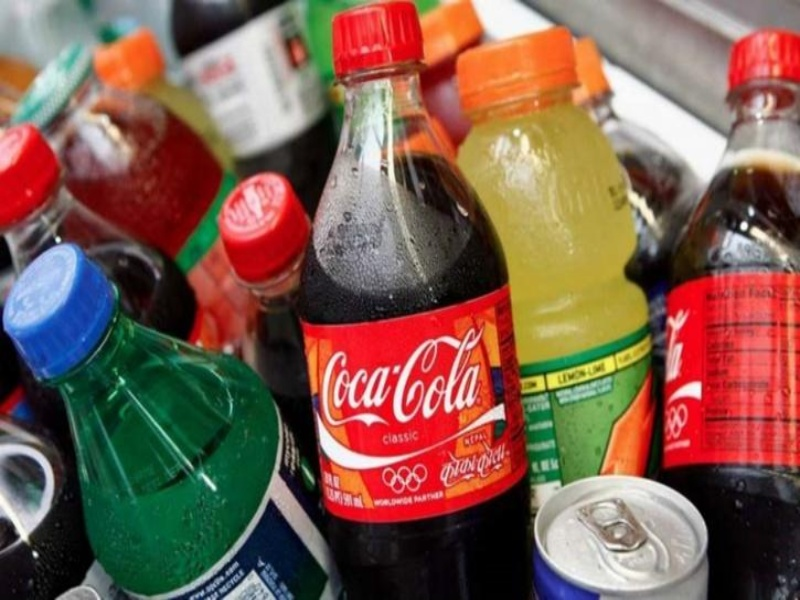Can: (495, 437, 722, 600)
Plastic bottle: (288, 10, 558, 588), (11, 235, 339, 600), (445, 22, 687, 498), (651, 25, 800, 574), (198, 176, 343, 431)
